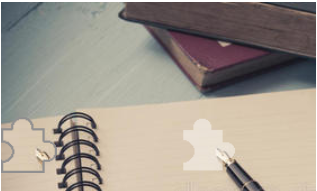target: (172, 113, 238, 178)
